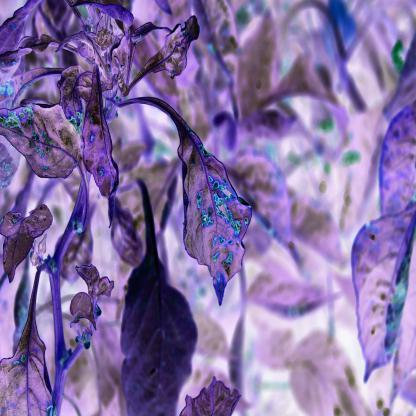Tomato leaf bacterial spot: (163, 111, 258, 308), (346, 198, 412, 389), (5, 85, 75, 180), (77, 75, 127, 203)
